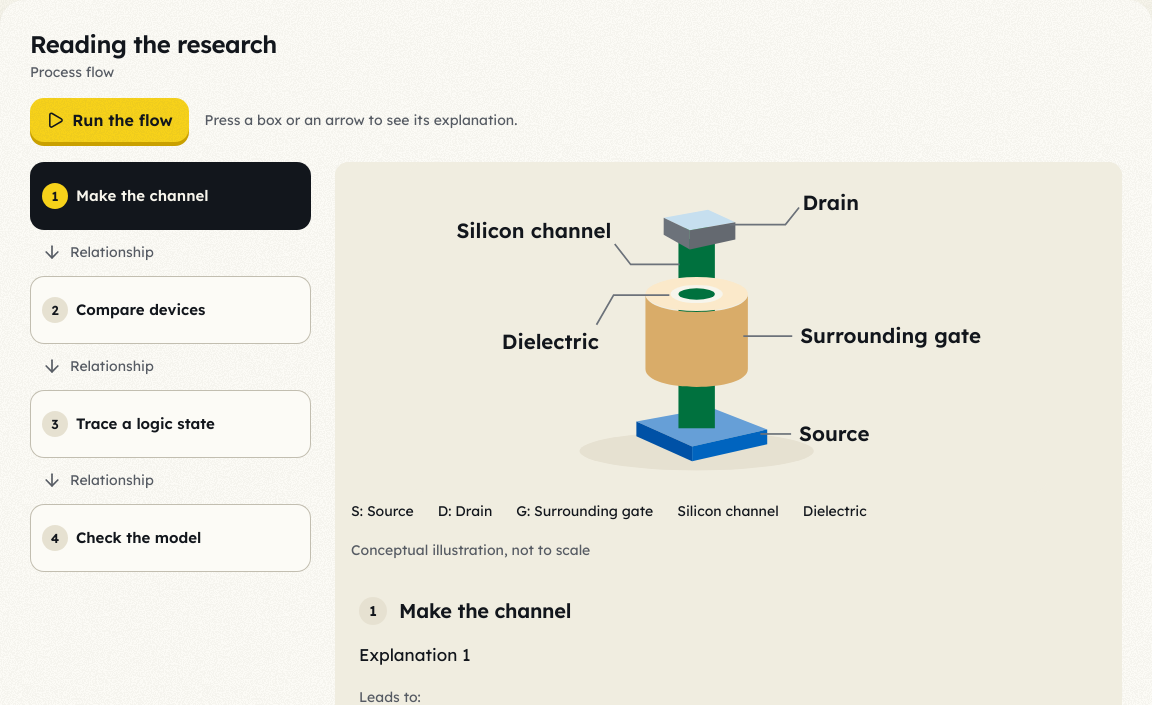
opens on an illustrated first step and switches explanation and illustration together
The image size is (1152, 705).
Expected: the picture named "Make the channel" is shown, 335,162 -> 1122,492
Expected: the text "Explanation 1" is shown, 359,644 -> 470,665
Click the button "2 Compare devices" at (170, 310), box 30,276 -> 311,344
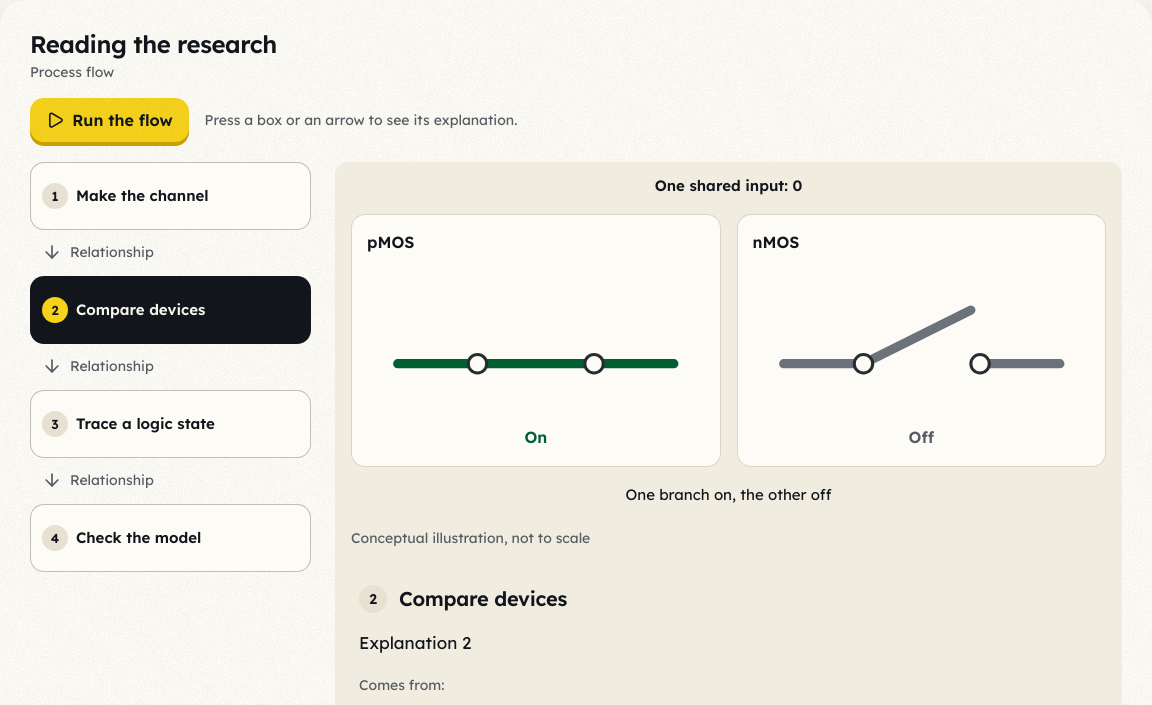
Expected: the text "Explanation 2" is shown, 359,632 -> 471,653
Expected: the text "Explanation 1" is gone
Expected: the text "One shared input: 0" is shown, 655,176 -> 802,195
